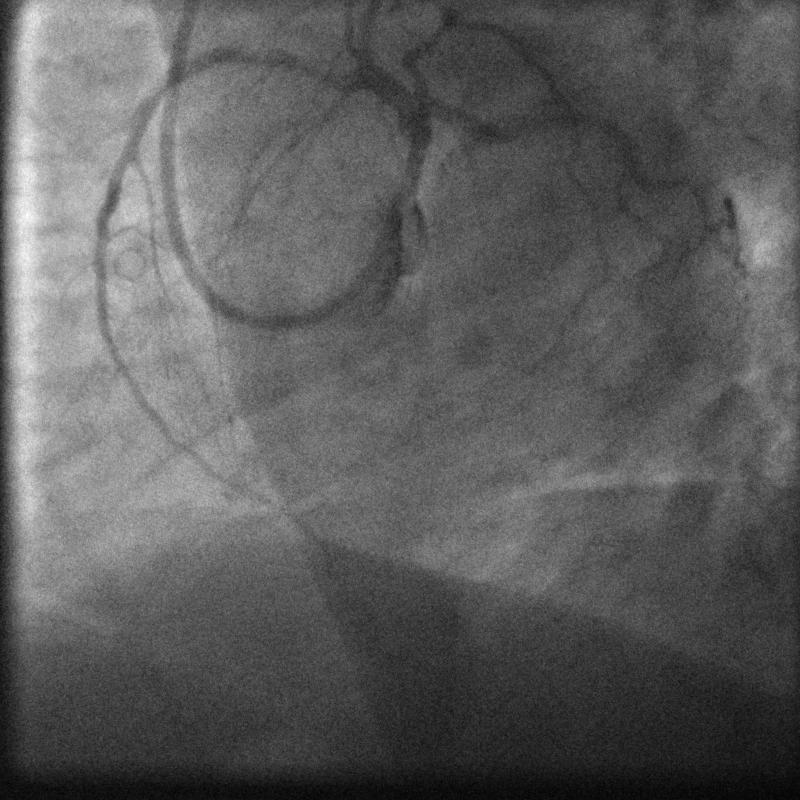Stenosis: (301, 54, 356, 95)
